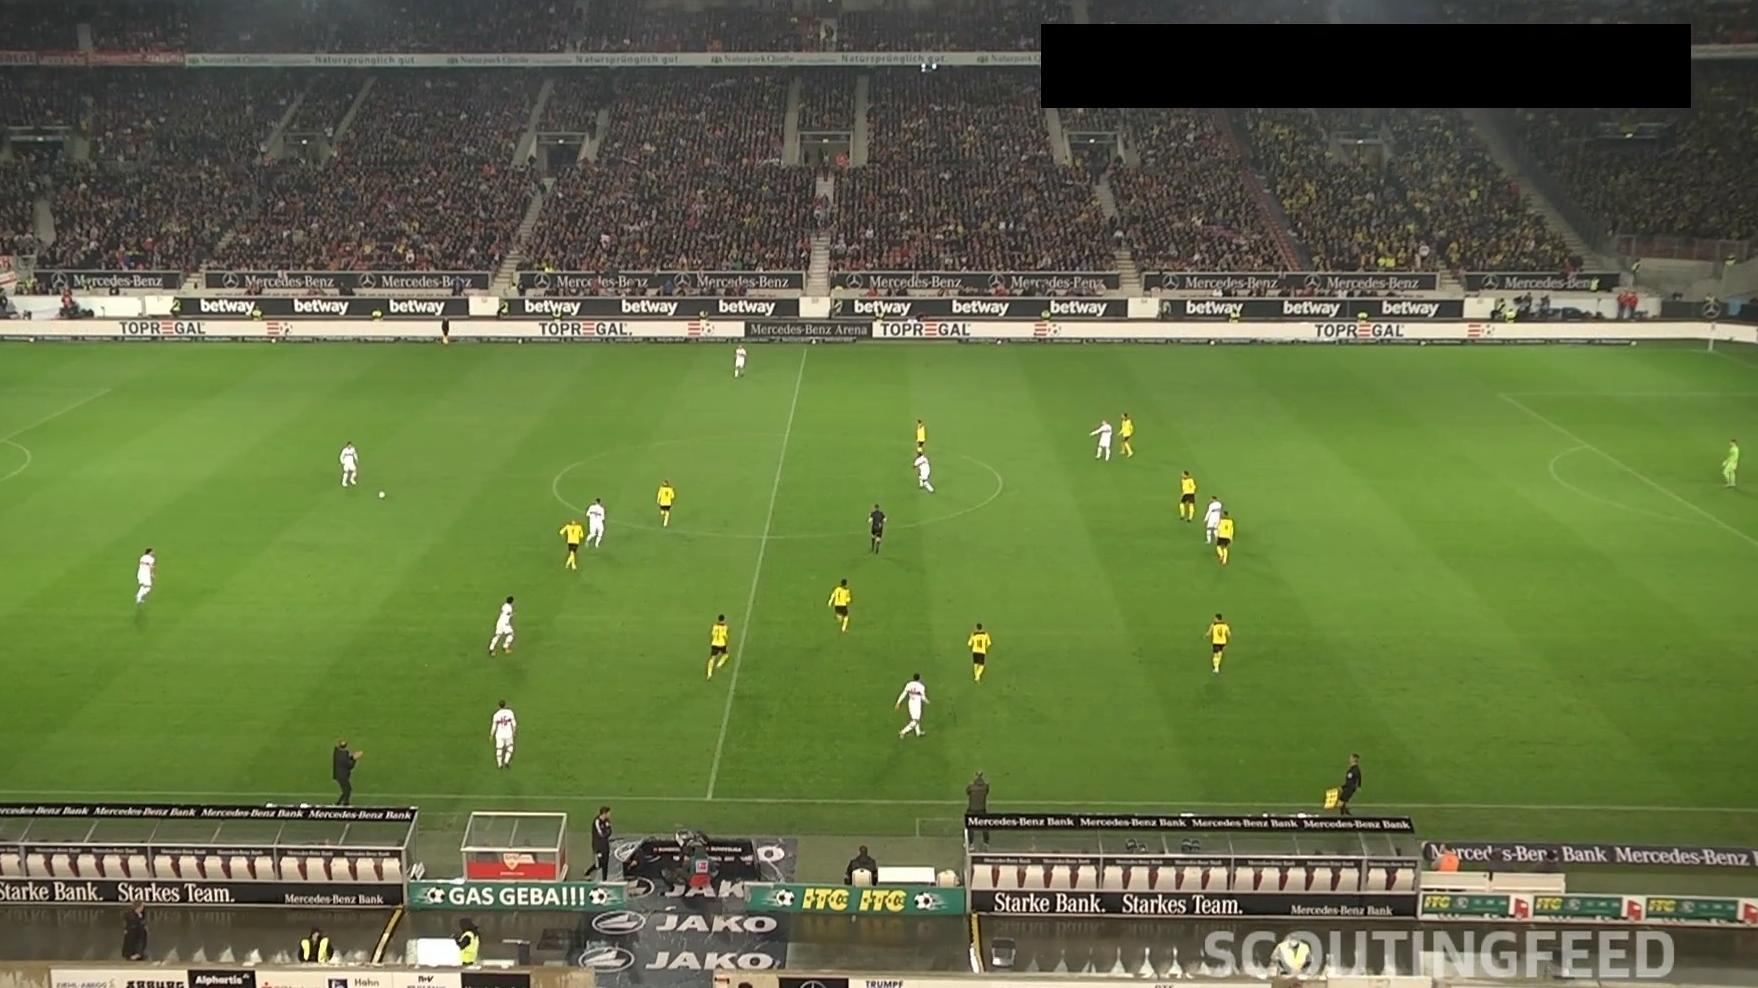ball: (378, 489, 386, 500)
